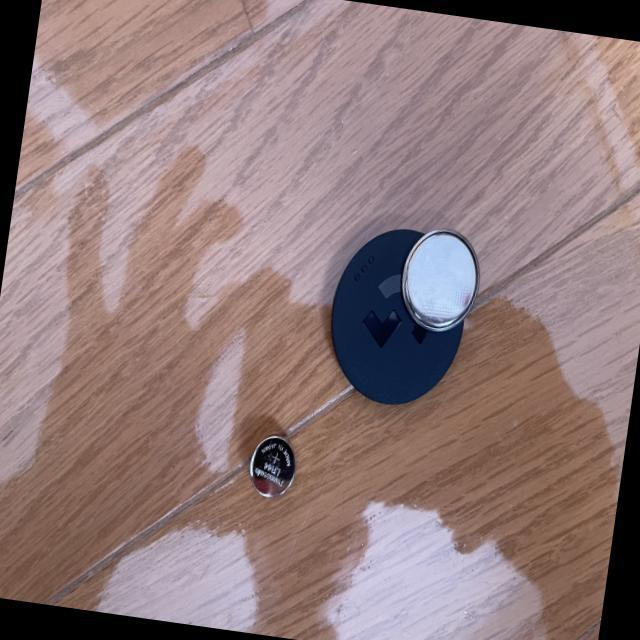COIN: (396, 222, 486, 338), (245, 432, 300, 502)
